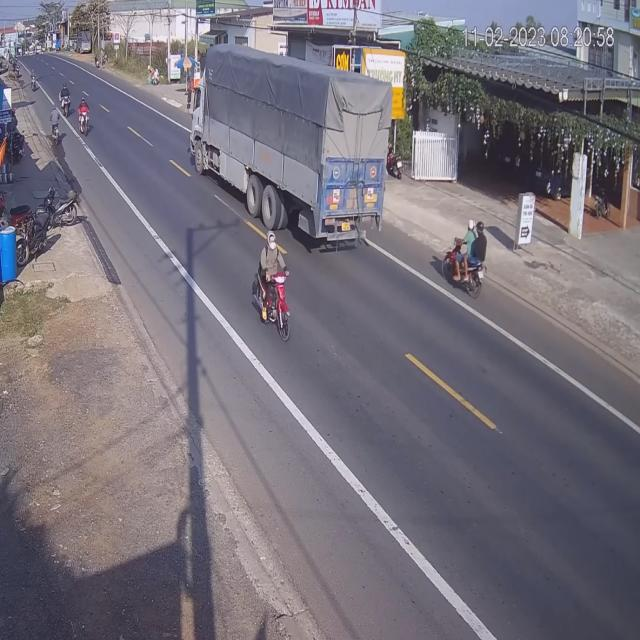motorbike: (256, 232, 294, 340), (438, 216, 485, 295), (78, 94, 90, 136), (60, 83, 72, 117)
truck: (190, 56, 392, 241)
